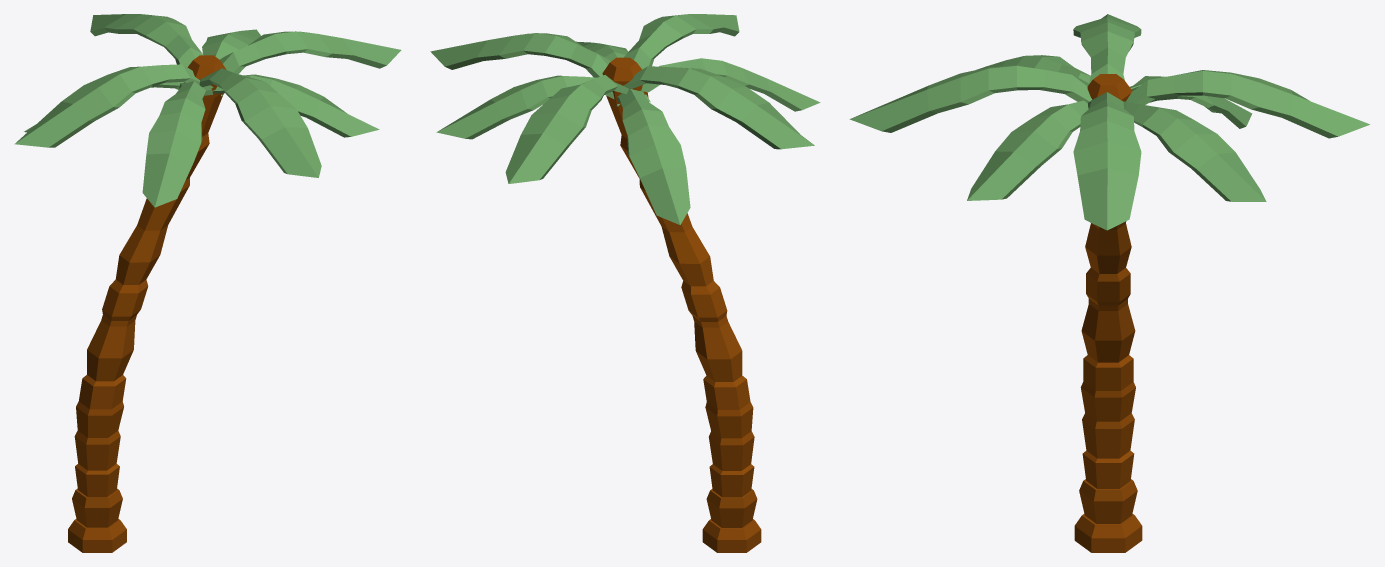
File: palm1.fbx
3 views of the same model, side by side, from view 1: azimuth 30°, elevation 25°; view 2: azimuth 150°, elevation 25°; view 3: azimuth 270°, elevation 25° (orthographic). The views are drawn at different scales.
Visible parts, largest first — view 1: Cylinder, Plane.002, Plane.004, Plane.007, Plane.001, Plane.003, Plane.006, Plane.005; view 2: Cylinder, Plane.008, Plane.003, Plane.004, Plane.001, Plane.005, Plane.002, Plane.007, Plane.006; view 3: Cylinder, Plane.001, Plane.002, Plane.003, Plane.005, Plane.006, Plane.004, Plane.008, Plane.007.
Boxes of the visible parts, x1,y1,x2,y2 form: Cylinder: (68, 55, 226, 552); Plane.002: (199, 68, 321, 177); Plane.004: (14, 64, 213, 147); Plane.007: (142, 81, 212, 207); Plane.001: (220, 31, 401, 73); Plane.003: (90, 14, 203, 67); Plane.006: (212, 74, 379, 137); Plane.005: (202, 29, 260, 96); Cylinder: (602, 57, 761, 552); Plane.008: (617, 89, 690, 224); Plane.003: (505, 75, 628, 183); Plane.004: (623, 66, 814, 149); Plane.001: (430, 33, 610, 77); Plane.005: (436, 75, 614, 139); Plane.002: (624, 14, 739, 69); Plane.007: (641, 58, 820, 111); Plane.006: (576, 41, 650, 106); Cylinder: (1074, 74, 1142, 552); Plane.001: (1073, 92, 1141, 230); Plane.002: (849, 65, 1092, 132); Plane.003: (1126, 70, 1369, 138); Plane.005: (1124, 101, 1266, 201); Plane.006: (967, 100, 1088, 200); Plane.004: (1073, 14, 1141, 83); Plane.008: (1130, 76, 1252, 128); Plane.007: (976, 55, 1090, 82).
Size of the model in its own units: 1514 by 1745 by 1540.
